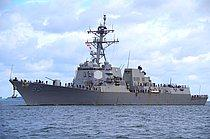MIL_Ship: (8, 16, 208, 105)
